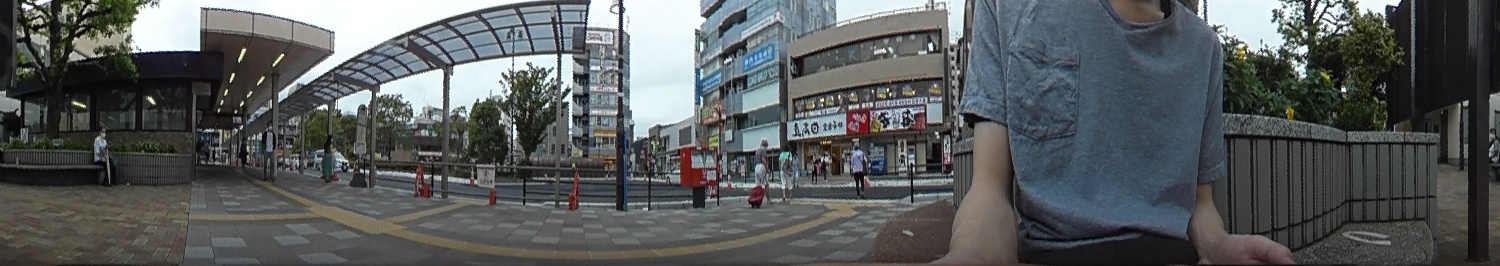difficult_person: (320, 131, 335, 182), (237, 136, 248, 167), (1488, 128, 1498, 161)
person: (92, 126, 119, 187), (754, 137, 774, 203), (778, 140, 796, 202), (259, 117, 277, 178), (849, 143, 869, 194)
